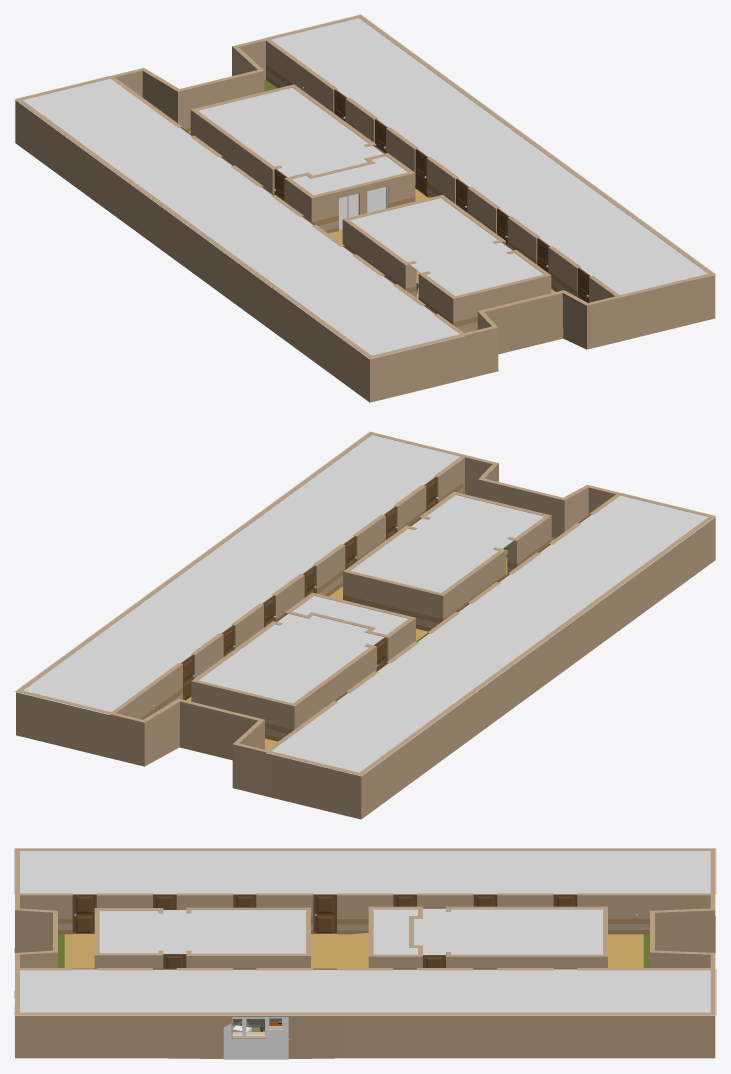
Rendered from LVL1.fbx.
3 renders of one model, top to bottom at view 1: azimuth 30°, elevation 25°; view 2: azimuth 150°, elevation 25°; view 3: azimuth 270°, elevation 25°, orthographic.
Visible parts, largest first — view 1: LVL1, FogPlanes.011, LVL1_layout, FogPlanes, FogPlanes.003, FogPlanes.012, FogPlanes.002, FogPlanes.001, LVL1_doors, FogPlanes.013, Elevator1; view 2: LVL1, FogPlanes.011, LVL1_layout, FogPlanes, FogPlanes.003, FogPlanes.012, FogPlanes.002, FogPlanes.001, LVL1_doors, FogPlanes.013; view 3: LVL1, FogPlanes.011, LVL1_layout, FogPlanes, FogPlanes.003, FogPlanes.012, FogPlanes.002, LVL1_doors, FogPlanes.001, RoomWall, FogPlanes.013, Okna.
Boxes of the visible parts, x1=… form: LVL1: x1=15, y1=15, x2=715, y2=402; FogPlanes.011: x1=14, y1=76, x2=464, y2=359; LVL1_layout: x1=111, y1=39, x2=619, y2=334; FogPlanes: x1=266, y1=14, x2=577, y2=195; FogPlanes.003: x1=350, y1=198, x2=543, y2=295; FogPlanes.012: x1=517, y1=197, x2=716, y2=294; FogPlanes.002: x1=198, y1=87, x2=383, y2=177; FogPlanes.001: x1=484, y1=172, x2=610, y2=219; LVL1_doors: x1=180, y1=87, x2=590, y2=314; FogPlanes.013: x1=292, y1=156, x2=407, y2=195; Elevator1: x1=339, y1=186, x2=387, y2=229; LVL1: x1=16, y1=432, x2=715, y2=819; FogPlanes.011: x1=266, y1=493, x2=716, y2=776; LVL1_layout: x1=111, y1=456, x2=619, y2=750; FogPlanes: x1=14, y1=533, x2=323, y2=714; FogPlanes.003: x1=350, y1=495, x2=543, y2=592; FogPlanes.012: x1=264, y1=431, x2=460, y2=531; FogPlanes.002: x1=199, y1=613, x2=384, y2=703; FogPlanes.001: x1=231, y1=509, x2=356, y2=556; LVL1_doors: x1=152, y1=476, x2=591, y2=706; FogPlanes.013: x1=292, y1=595, x2=408, y2=634; LVL1: x1=14, y1=848, x2=715, y2=1058; FogPlanes.011: x1=14, y1=848, x2=716, y2=894; LVL1_layout: x1=20, y1=893, x2=710, y2=970; FogPlanes: x1=289, y1=969, x2=716, y2=1015; FogPlanes.003: x1=99, y1=910, x2=305, y2=953; FogPlanes.012: x1=14, y1=969, x2=223, y2=1015; FogPlanes.002: x1=414, y1=908, x2=602, y2=954; LVL1_doors: x1=72, y1=894, x2=637, y2=969; FogPlanes.001: x1=223, y1=969, x2=289, y2=1015; RoomWall: x1=223, y1=1017, x2=288, y2=1059; FogPlanes.013: x1=373, y1=909, x2=417, y2=954; Okna: x1=231, y1=1017, x2=283, y2=1037.
Bounding box in the file's own units: 2149 × 278 × 3813.
